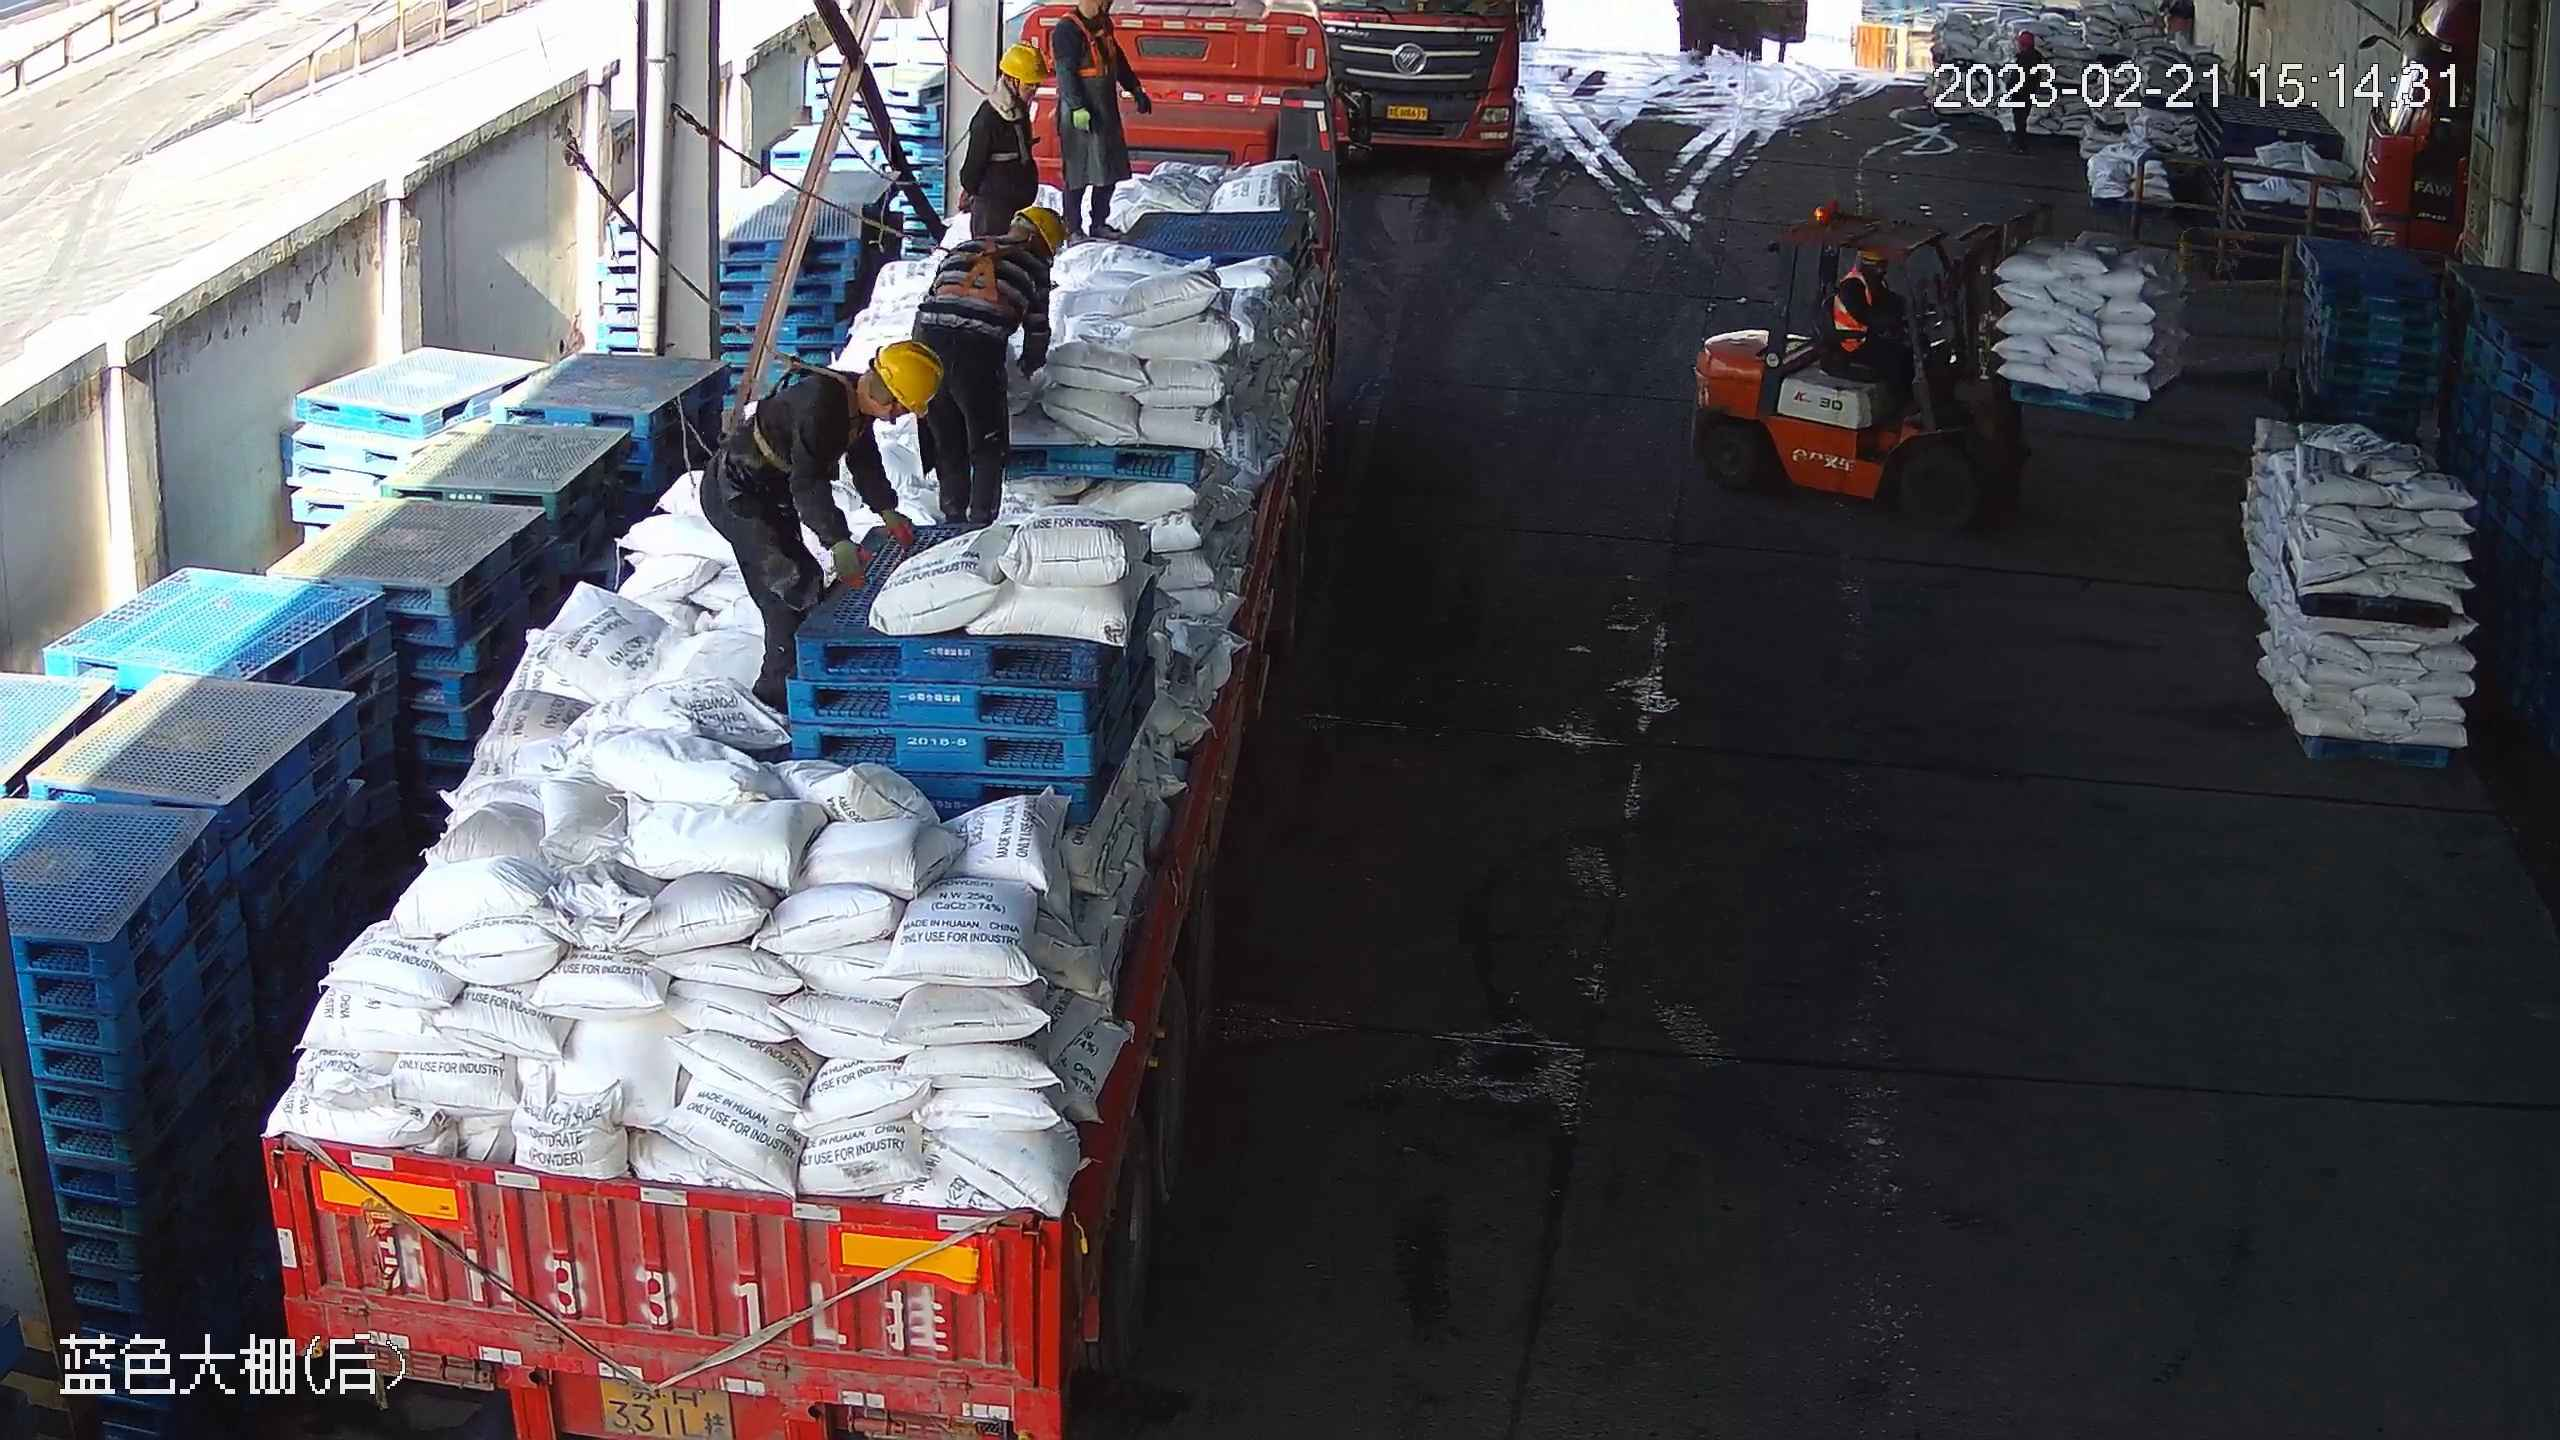belt: (752, 361, 873, 474), (935, 234, 1026, 315), (1061, 12, 1120, 78), (989, 119, 1041, 169)
head: (787, 336, 944, 437), (930, 206, 1064, 286), (966, 42, 1048, 128)
helmet: (874, 339, 944, 418), (1014, 206, 1062, 254), (999, 42, 1049, 82)
people: (698, 338, 944, 718), (913, 205, 1063, 527), (1053, 1, 1153, 244), (957, 42, 1050, 238)
truck: (256, 1, 1374, 1440), (1317, 1, 1519, 151)
